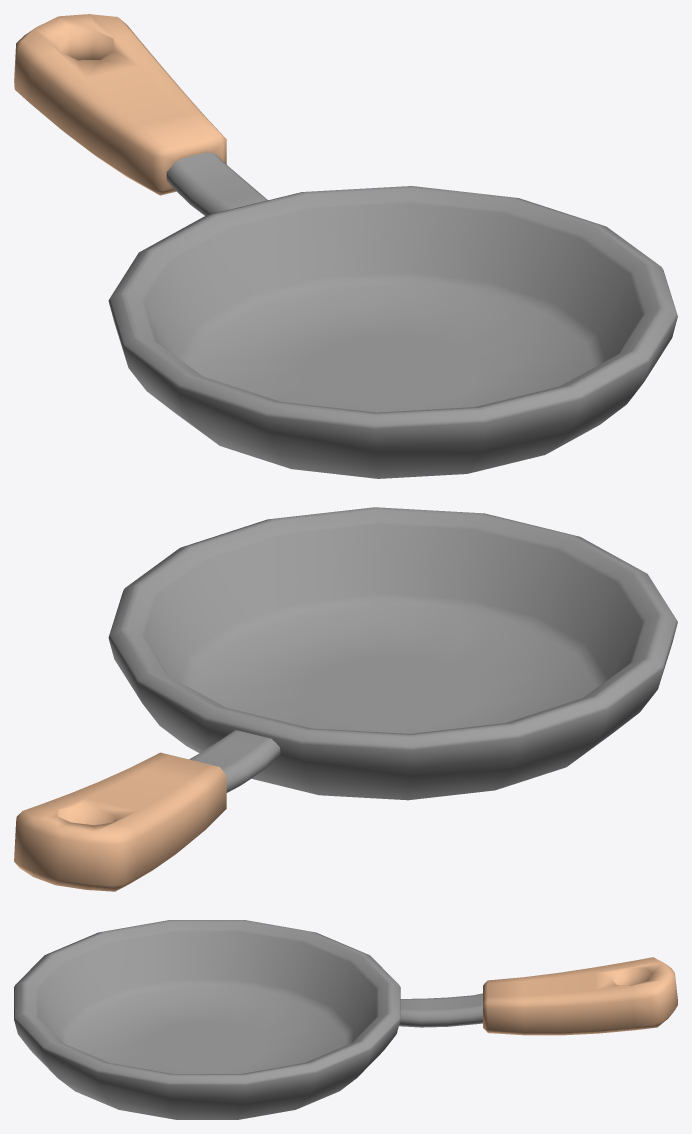
File: character_animating_4_sd_C_b.fbx
The picture shows the model from 3 angles, top to bottom: view 1: azimuth 30°, elevation 25°; view 2: azimuth 150°, elevation 25°; view 3: azimuth 270°, elevation 25°; orthographic projection. The views are drawn at different scales.
Visible parts, largest first — view 1: 동그리, 손잡이, 손잡; view 2: 동그리, 손잡이, 손잡; view 3: 동그리, 손잡이, 손잡.
Boxes of the visible parts, x1,y1,x2,y2 form: 동그리: (108, 186, 677, 478); 손잡이: (14, 14, 226, 195); 손잡: (166, 152, 267, 215); 동그리: (108, 507, 677, 800); 손잡이: (14, 752, 226, 891); 손잡: (189, 730, 280, 792); 동그리: (14, 920, 400, 1119); 손잡이: (483, 957, 677, 1035); 손잡: (399, 993, 482, 1027).
Size of the model in its own units: 228 by 54.78 by 391.
